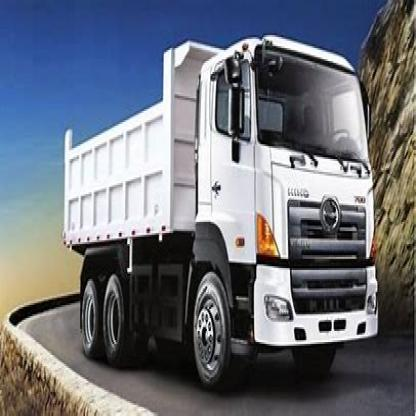dump_truck: (47, 19, 385, 386)
